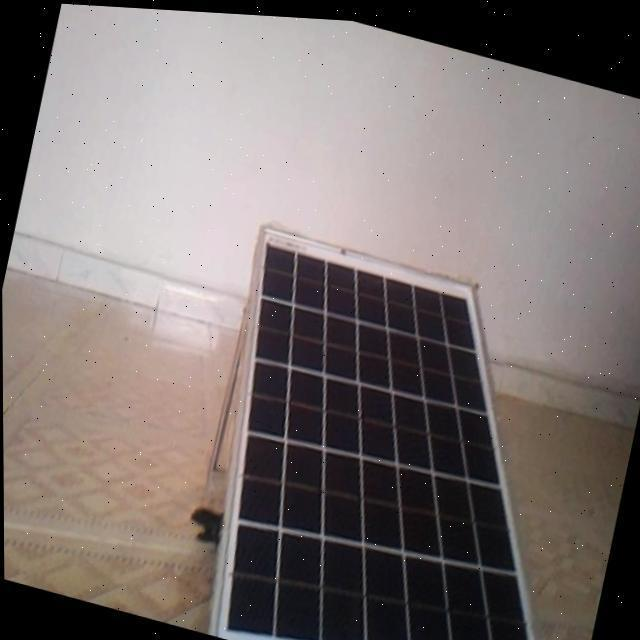Normal Solar Panel: (175, 217, 622, 640)
